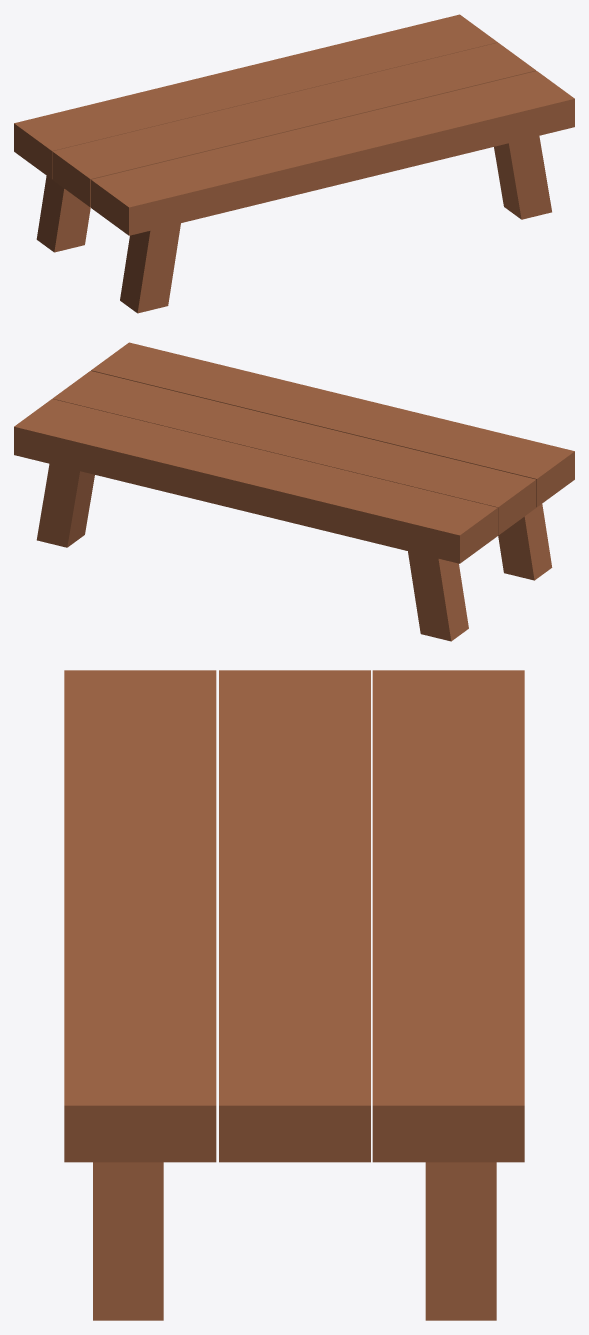
File: table_long.obj
3 views of the same model, one above another, from view 1: azimuth 30°, elevation 25°; view 2: azimuth 150°, elevation 25°; view 3: azimuth 270°, elevation 25° (orthographic). The views are drawn at different scales.
Parts seen in each view (by area): view 1: table_long; view 2: table_long; view 3: table_long.
Part boxes in pixels (box(x1,y1,x2,y2)): table_long: box(14, 14, 574, 313); table_long: box(14, 342, 574, 641); table_long: box(64, 670, 524, 1320).
Size of the model in its own units: 1.54 by 0.3789 by 0.6873.
